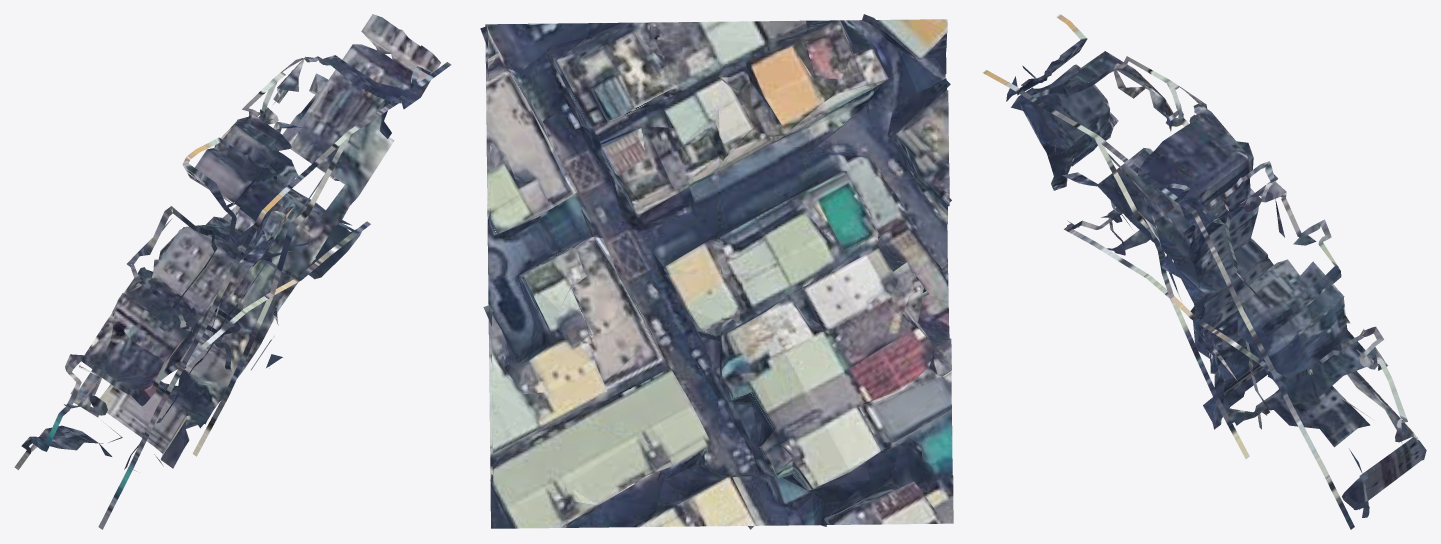
The picture shows the model from 3 angles, left to right: view 1: azimuth 30°, elevation 25°; view 2: azimuth 150°, elevation 25°; view 3: azimuth 270°, elevation 25°; orthographic projection. The views are drawn at different scales.
Size of the model in its own units: 85.16 by 76.8 by 77.61.
Materials: 2 (2 with a texture image).
